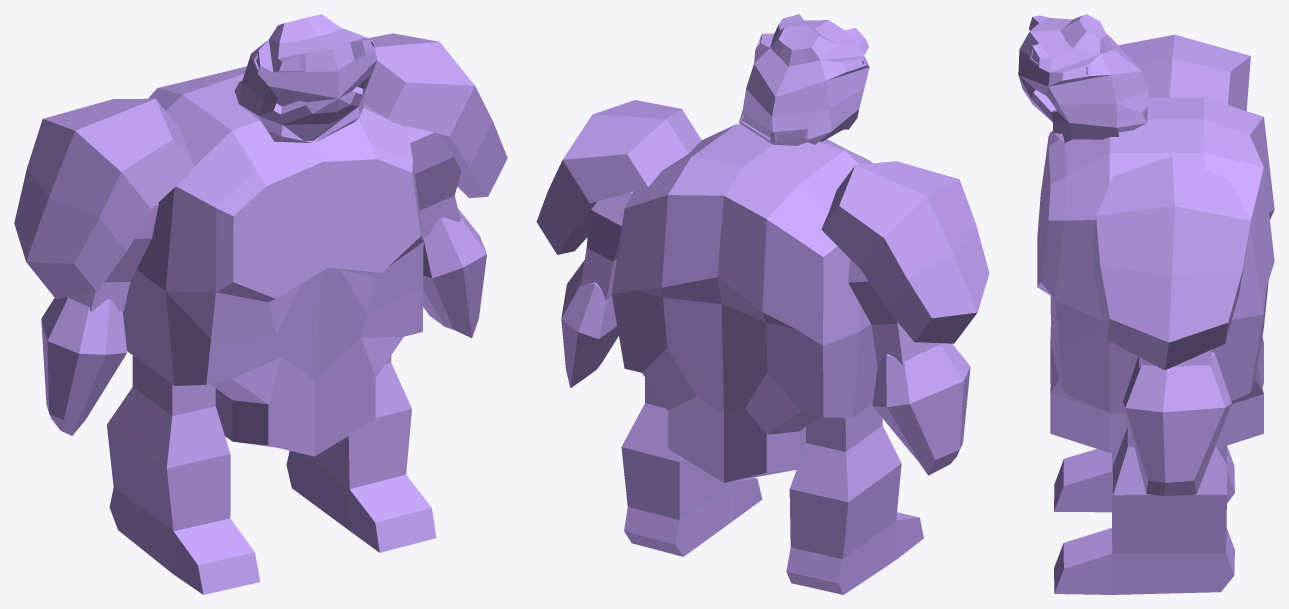
File: Golem.fbx
3 renders of one model, left to right at view 1: azimuth 30°, elevation 25°; view 2: azimuth 150°, elevation 25°; view 3: azimuth 270°, elevation 25°, orthographic. The views are drawn at different scales.
Parts seen in each view (by area): view 1: Cube, Cube.002, Cube.001; view 2: Cube, Cube.002, Cube.001; view 3: Cube, Cube.001, Cube.002.
Part boxes in pixels (x1,y1,x2,y2): Cube: [14, 33, 507, 594]; Cube.002: [41, 125, 486, 435]; Cube.001: [234, 14, 377, 142]; Cube: [536, 100, 989, 594]; Cube.002: [561, 191, 970, 475]; Cube.001: [739, 14, 869, 145]; Cube: [1037, 34, 1274, 594]; Cube.001: [1018, 14, 1148, 142]; Cube.002: [1123, 349, 1231, 495].
Size of the model in its own units: 563 by 621 by 277.
